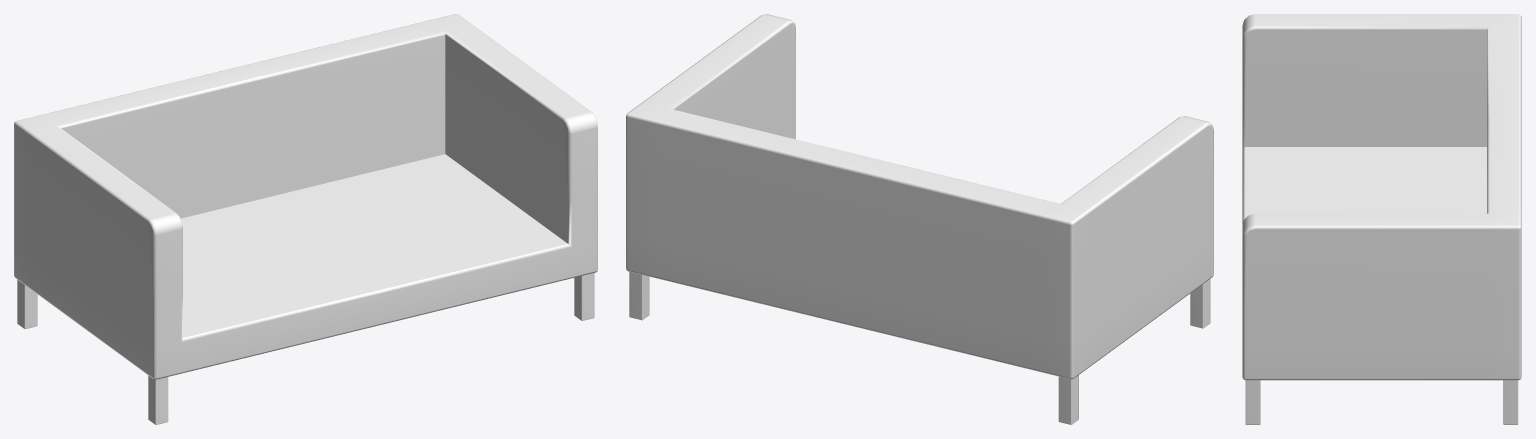
File: sofa.obj
3 renders of one model, left to right at view 1: azimuth 30°, elevation 25°; view 2: azimuth 150°, elevation 25°; view 3: azimuth 270°, elevation 25°, orthographic. The views are drawn at different scales.
Visible parts, largest first — view 1: WickerLoveSeat_MSH2 Chairs_GRP; view 2: WickerLoveSeat_MSH2 Chairs_GRP; view 3: WickerLoveSeat_MSH2 Chairs_GRP.
Boxes of the visible parts, x1=… form: WickerLoveSeat_MSH2 Chairs_GRP: x1=14, y1=14, x2=597, y2=424; WickerLoveSeat_MSH2 Chairs_GRP: x1=626, y1=14, x2=1213, y2=424; WickerLoveSeat_MSH2 Chairs_GRP: x1=1242, y1=14, x2=1521, y2=424.
Bounding box in the file's own units: 6.86 × 2.99 × 3.78.
Materials: 1 (1 with a texture image).
